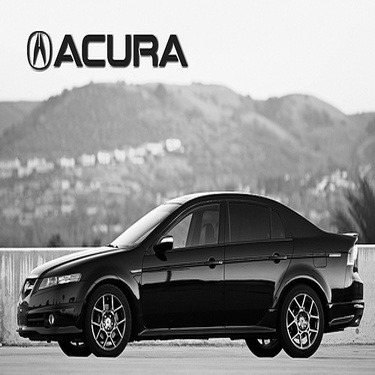car: (11, 182, 368, 361)
